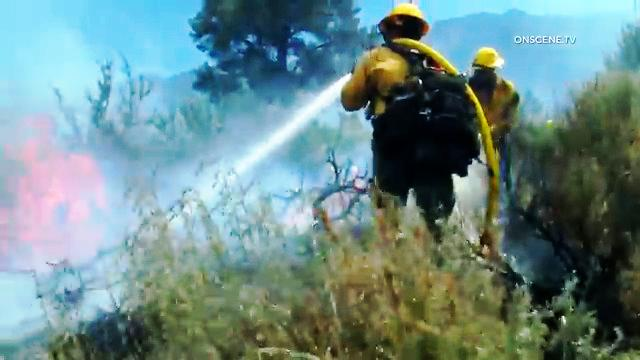fire: (0, 134, 87, 255)
